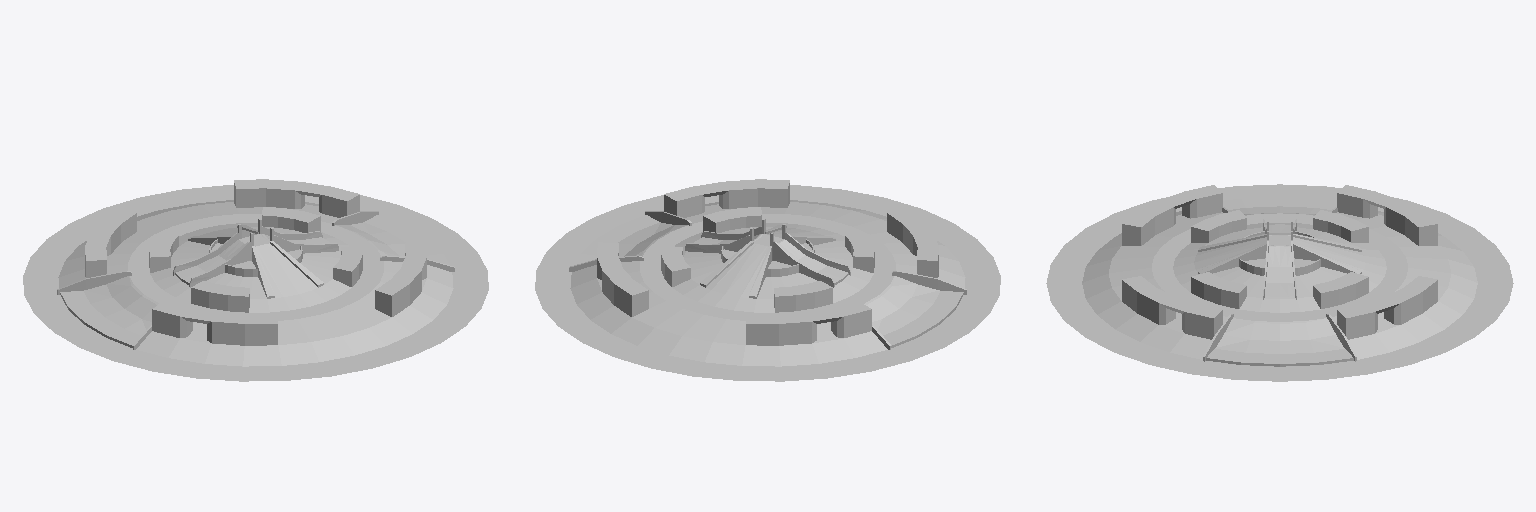
File: level_test1.obj
3 renders of one model, left to right at view 1: azimuth 30°, elevation 25°; view 2: azimuth 150°, elevation 25°; view 3: azimuth 270°, elevation 25°, orthographic.
Bounding box in the file's own units: 217 × 30.49 × 217.